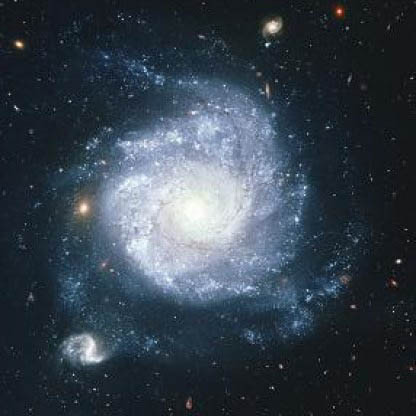NGC 1309: (20, 11, 369, 371)
